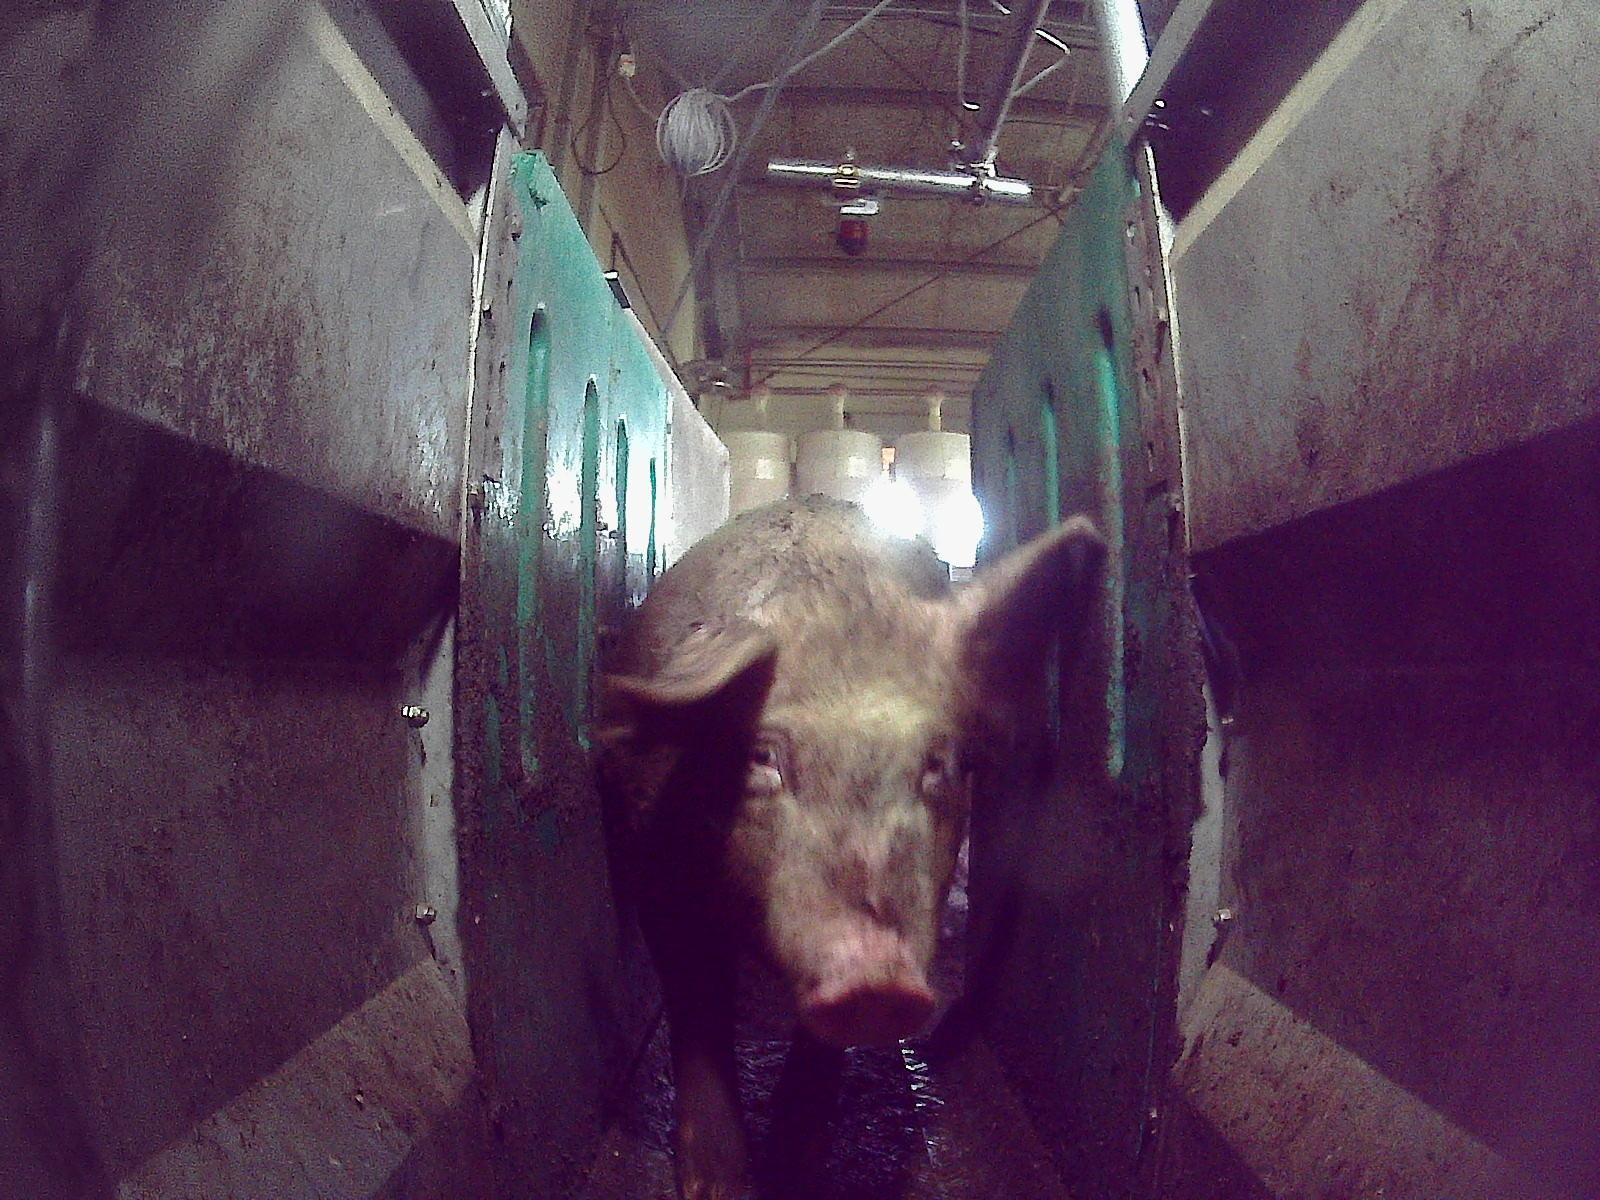Face: (690, 578, 967, 1044)
